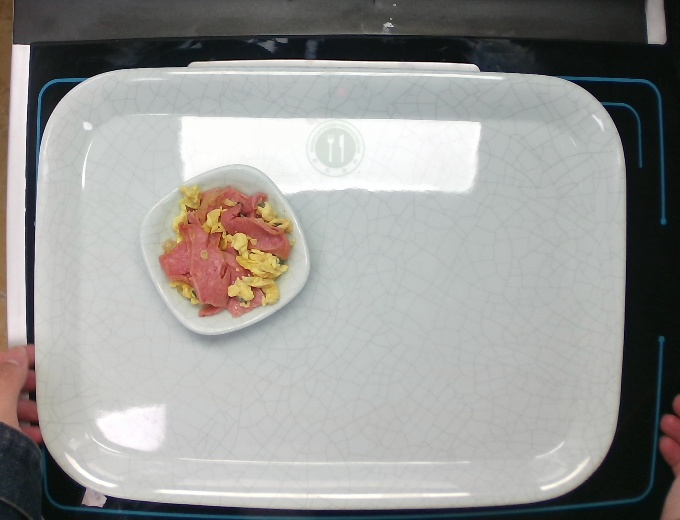JYsf-Si_Fang_Die: (135, 157, 311, 335)
